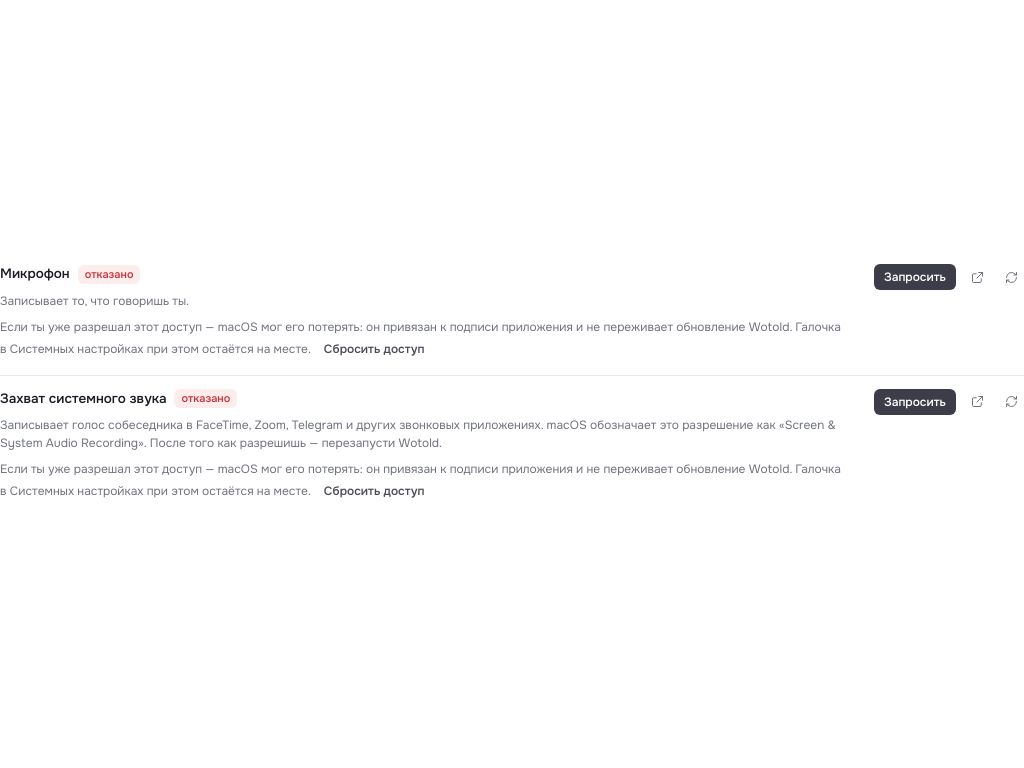
Test: PermissionsSection › кнопки и диалог сброса называют разрешение
Expected: the button with aria-label "Сбросить доступ: Микрофон" is shown, [314,336,434,362]
Click the button with aria-label "Сбросить доступ: Захват системного звука".
click(374, 491)  # box [314,478,434,504]
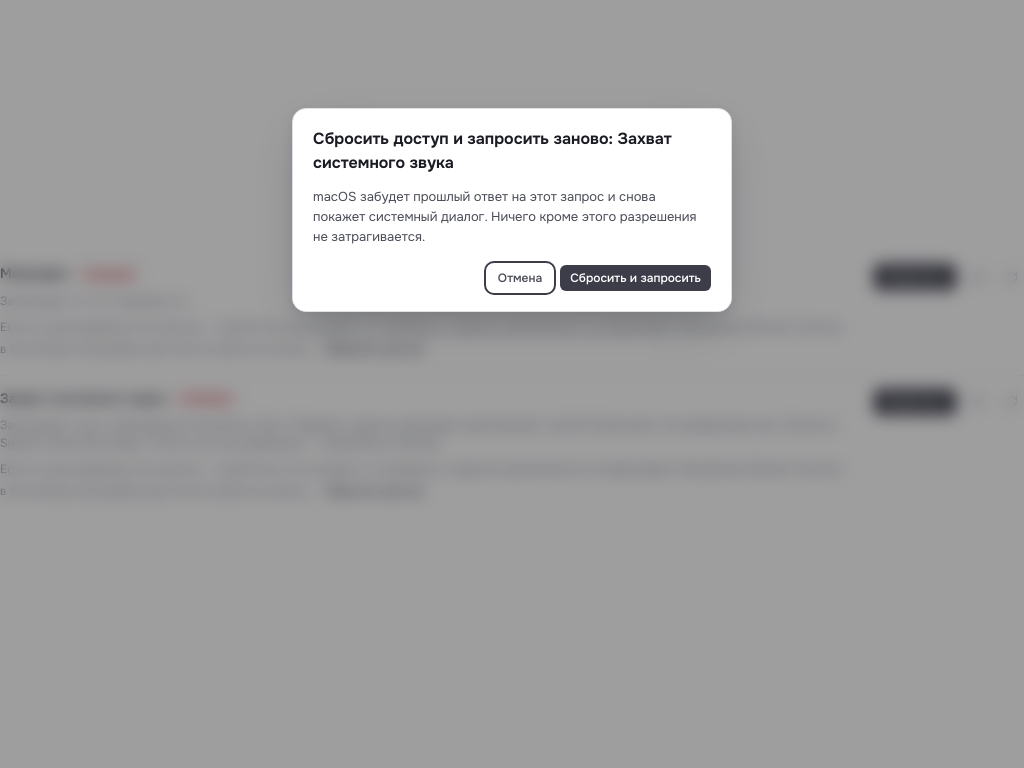
Expected: the text "Сбросить доступ и запросить заново: Захват системного звука" is shown, [313,126,711,174]
